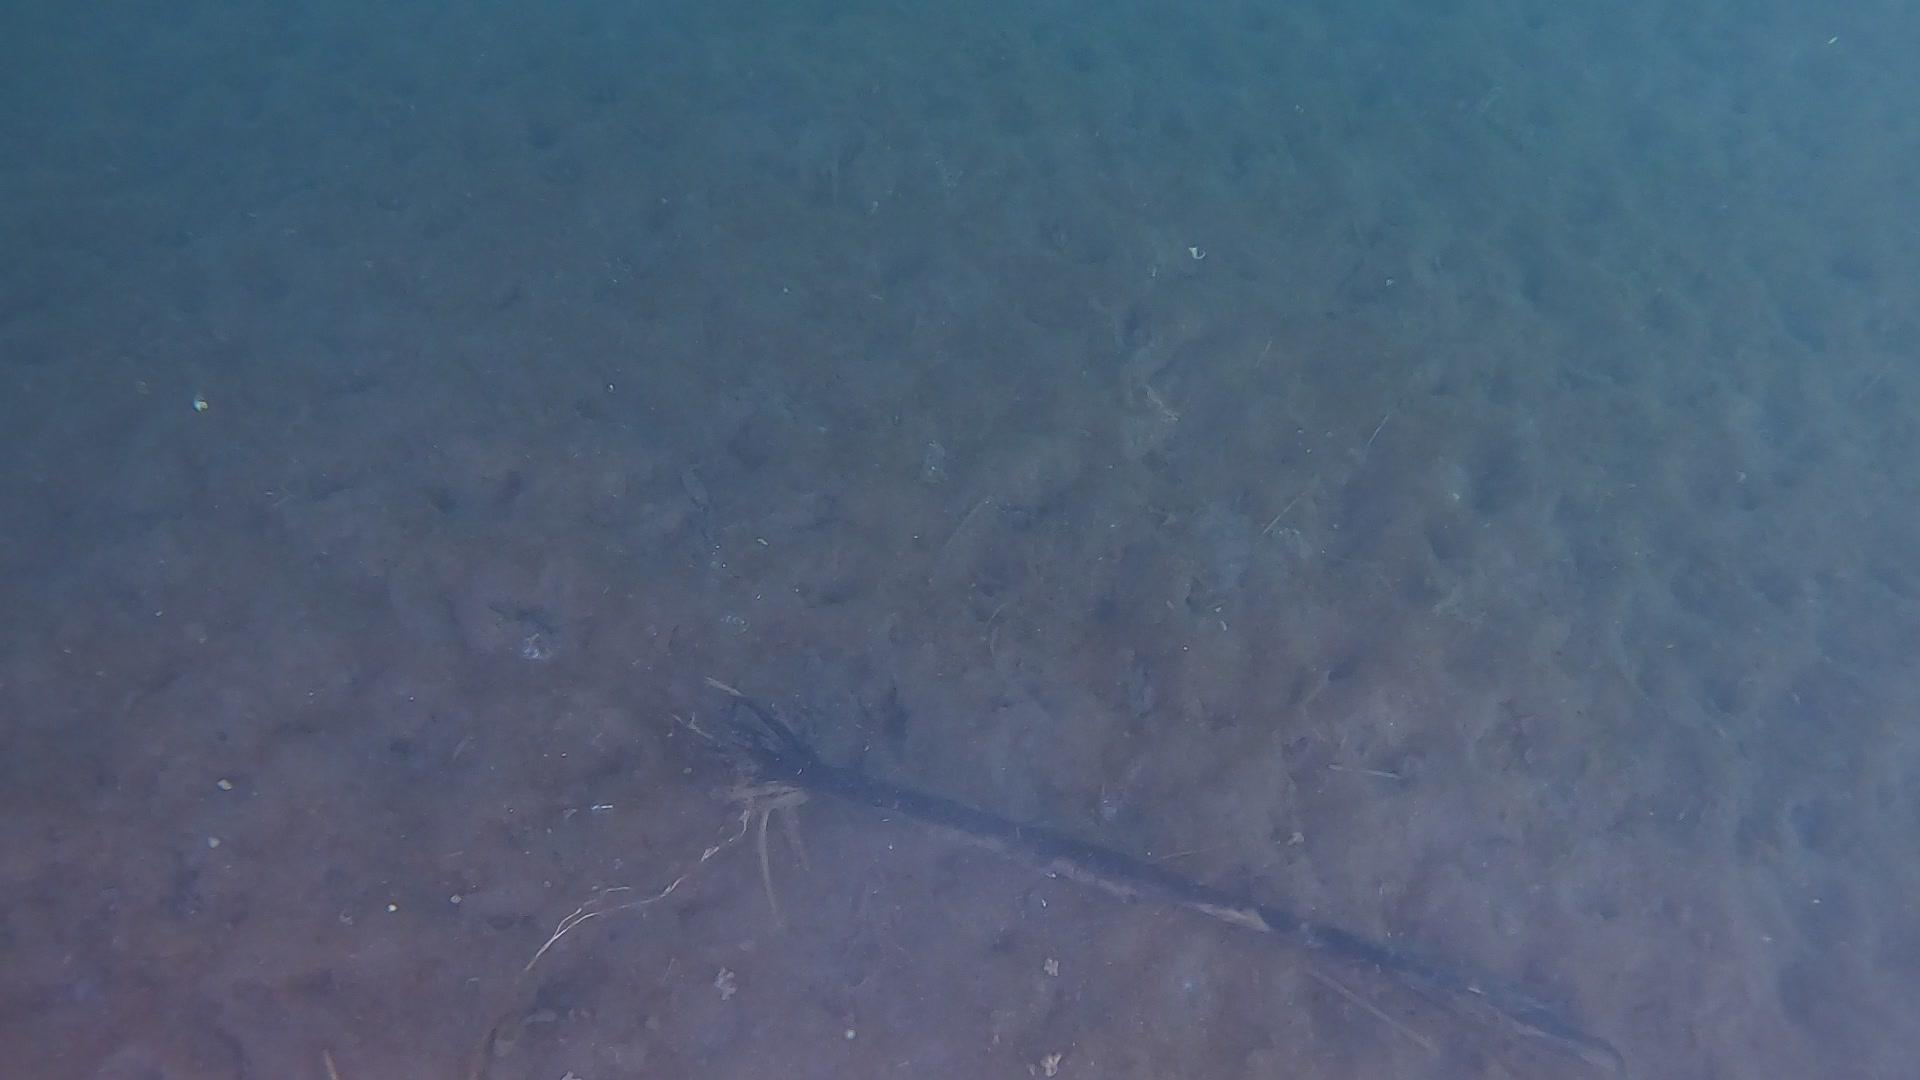wood: (665, 673, 1629, 1080)
